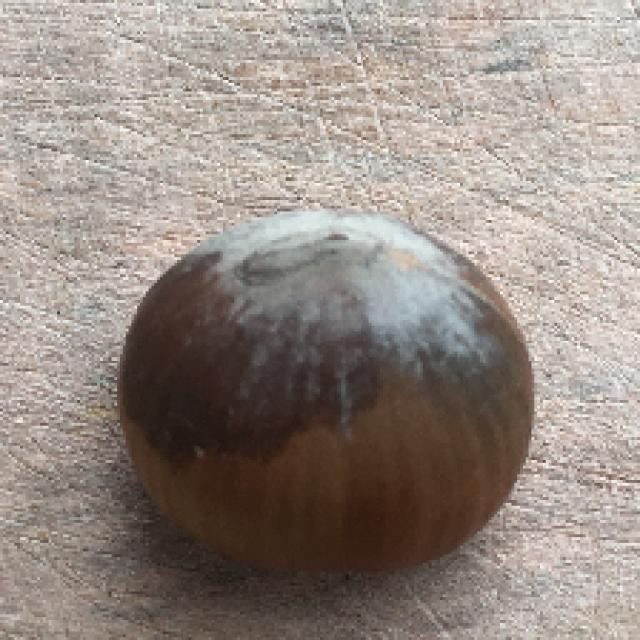damagedHazelnut: (118, 207, 545, 598)
